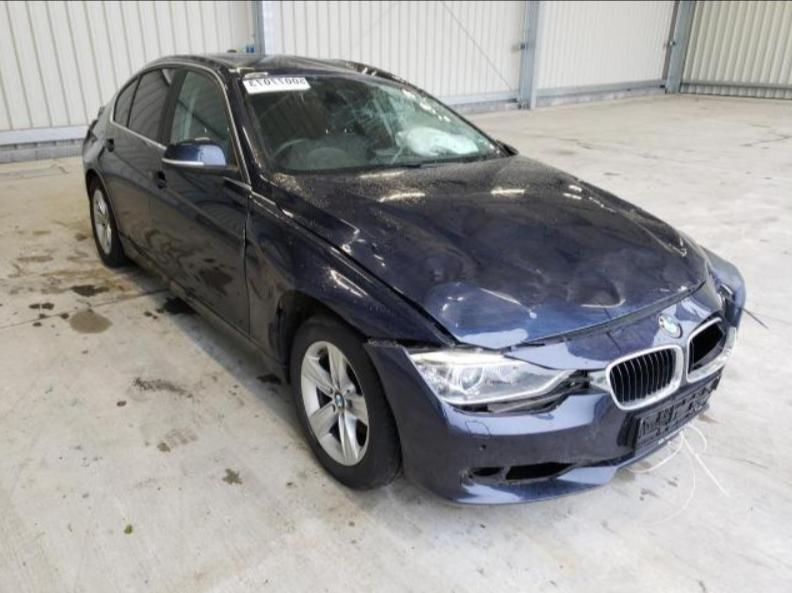Broken part: (271, 194, 712, 361), (445, 366, 610, 419), (688, 310, 727, 374), (364, 332, 459, 353), (242, 186, 253, 293)
Cracked: (238, 72, 509, 171)
Dent: (273, 177, 708, 349), (245, 234, 284, 352), (287, 50, 393, 77), (84, 103, 107, 174), (711, 267, 735, 320), (677, 296, 709, 322)
Missing part: (640, 375, 718, 440), (505, 460, 578, 479), (473, 467, 503, 477), (482, 444, 486, 448), (469, 475, 473, 478)
Scratch: (663, 233, 692, 265), (657, 285, 689, 293)
